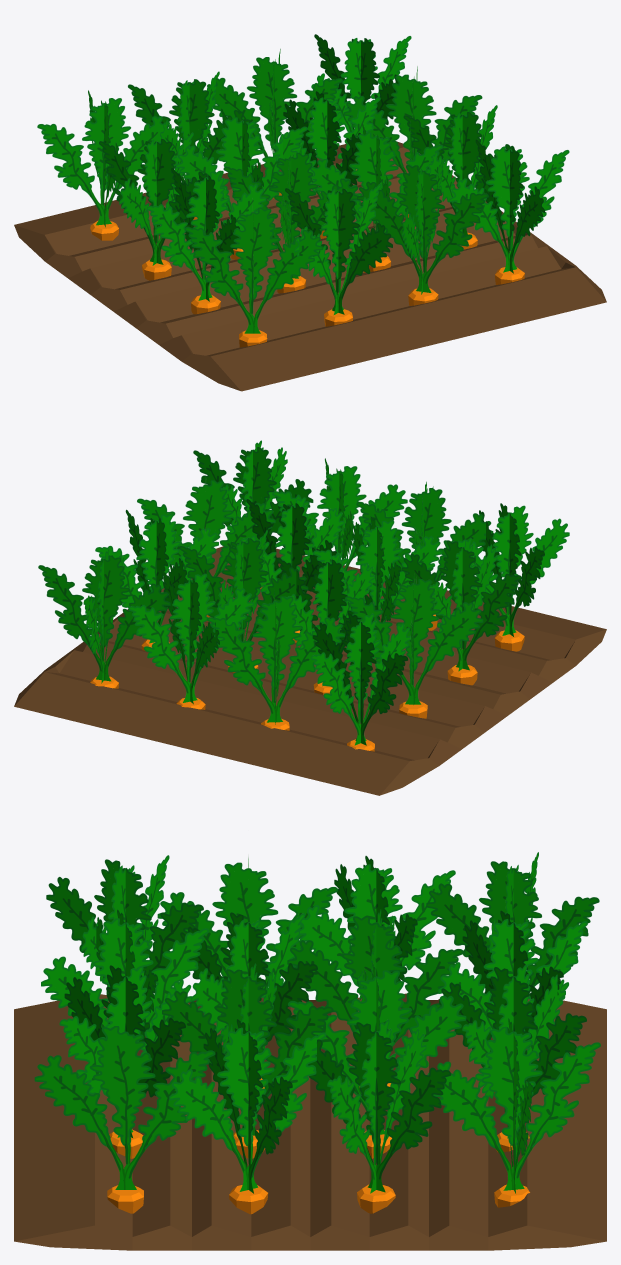
Rendered from carrot-stage3-w-Dirt.glb.
3 renders of one model, top to bottom at view 1: azimuth 30°, elevation 25°; view 2: azimuth 150°, elevation 25°; view 3: azimuth 270°, elevation 25°, orthographic. The views are drawn at different scales.
Parts seen in each view (by area): view 1: Carrot_F3, Soil.009; view 2: Carrot_F3, Soil.009; view 3: Carrot_F3, Soil.009.
Boxes of the visible parts, x1,y1,x2,y2 form: Carrot_F3: (37,34,569,347); Soil.009: (14,141,606,391); Carrot_F3: (38,440,569,751); Soil.009: (14,546,606,795); Carrot_F3: (34,852,600,1214); Soil.009: (14,993,606,1250).
Bounding box in the file's own units: 2.5 × 0.8425 × 2.5.
Materials: 2 (1 with a texture image).
